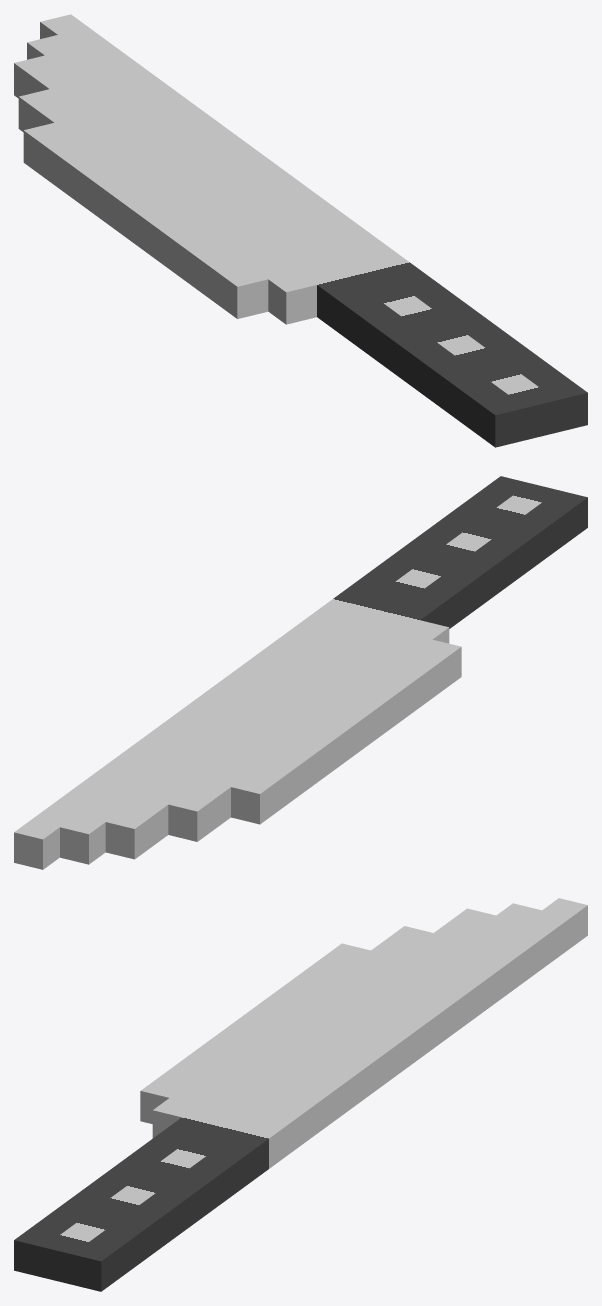
File: cutit.fbx
The picture shows the model from 3 angles, top to bottom: view 1: azimuth 30°, elevation 25°; view 2: azimuth 150°, elevation 25°; view 3: azimuth 330°, elevation 25°; orthographic projection. The views are drawn at different scales.
Parts seen in each view (by area): view 1: cube_2, cube, cube_1, cube_4, cube_3; view 2: cube_2, cube, cube_1, cube_4, cube_3; view 3: cube, cube_1, cube_2, cube_3, cube_4.
Boxes of the visible parts, left/top/right/bottom form: cube_2: left=14, top=55, right=526, bottom=447; cube: left=40, top=14, right=587, bottom=432; cube_1: left=27, top=35, right=556, bottom=439; cube_4: left=23, top=122, right=268, bottom=318; cube_3: left=18, top=89, right=316, bottom=324; cube_2: left=105, top=490, right=587, bottom=859; cube: left=14, top=476, right=529, bottom=869; cube_1: left=60, top=483, right=558, bottom=864; cube_4: left=231, top=639, right=461, bottom=824; cube_3: left=168, top=620, right=449, bottom=841; cube: left=72, top=898, right=587, bottom=1291; cube_1: left=43, top=903, right=541, bottom=1284; cube_2: left=14, top=908, right=495, bottom=1277; cube_3: left=152, top=926, right=432, bottom=1138; cube_4: left=140, top=943, right=370, bottom=1123.
Bounding box in the file's own units: 31.25 × 6.25 × 181.
Materials: 1 (1 with a texture image).
